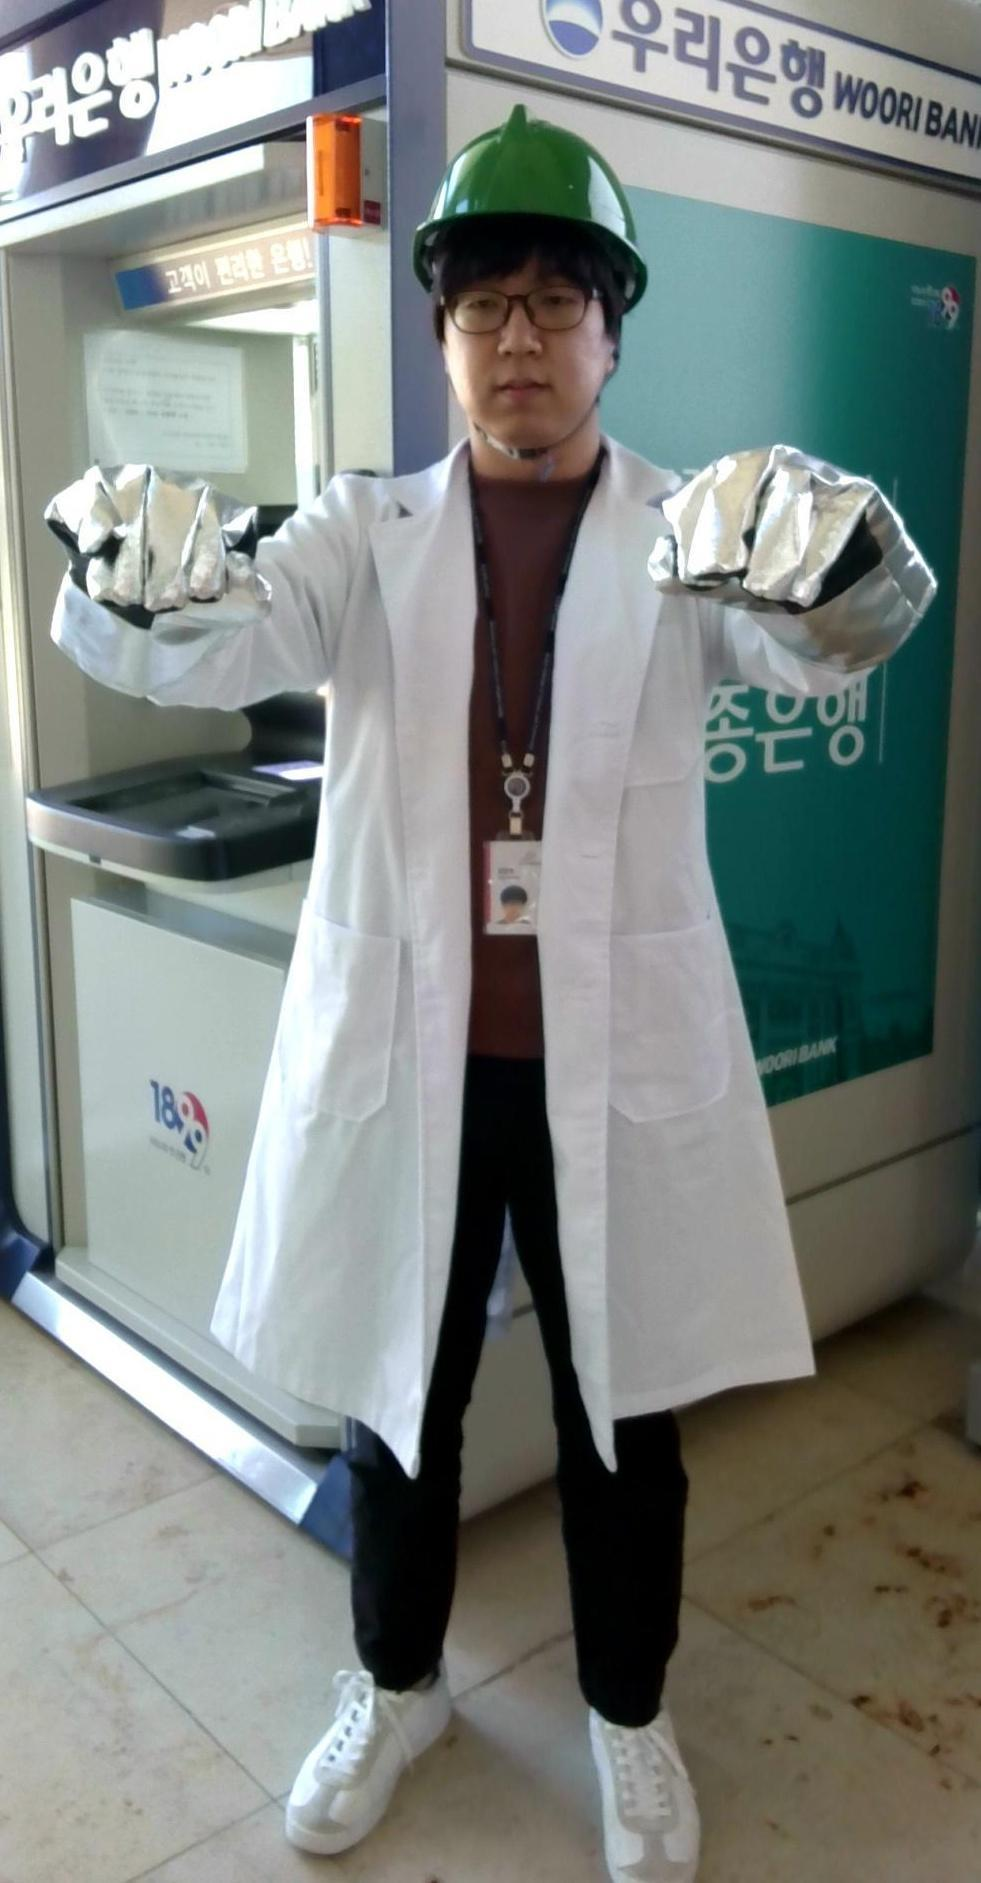lab_coat: (291, 471, 667, 1412)
